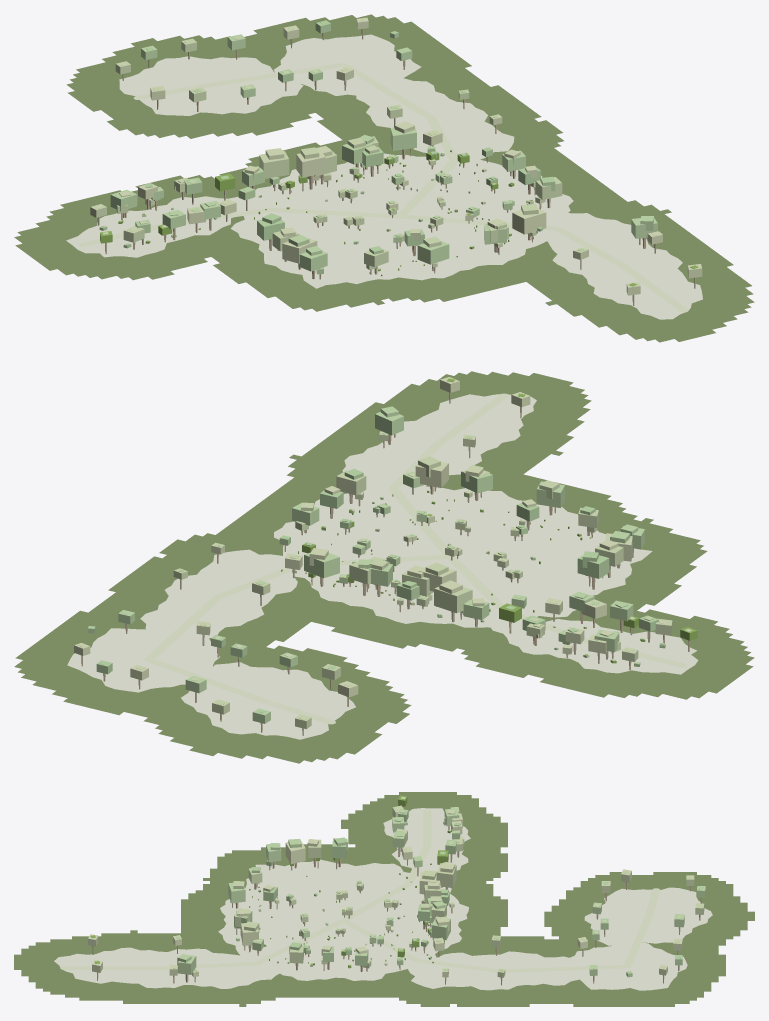
The model's file is pradera_derecha.glb.
3 views of the same model, one above another, from view 1: azimuth 30°, elevation 25°; view 2: azimuth 150°, elevation 25°; view 3: azimuth 270°, elevation 25° (orthographic). The views are drawn at different scales.
Visible parts, largest first — view 1: AutoForest_PraderaDerecha, RightMeadow, ExitDownMeadow, Hub2LeftMeadow, ExitUpMeadow, Hub2Meadow, ExitMeadow, NorthPath, SouthPath, ExitPath, right_tree_crown_22, right_tree_crown_14 (+2 smaller); view 2: AutoForest_PraderaDerecha, RightMeadow, ExitDownMeadow, Hub2LeftMeadow, ExitUpMeadow, Hub2Meadow, ExitMeadow, NorthPath, SouthPath, ExitPath, right_tree_crown_14, right_tree_crown_17; view 3: AutoForest_PraderaDerecha, RightMeadow, ExitDownMeadow, ExitUpMeadow, Hub2LeftMeadow, Hub2Meadow, ExitMeadow, NorthPath, SouthPath, ExitPath.
Boxes of the visible parts, <box> form: AutoForest_PraderaDerecha: <box>14,14,754,342</box>; RightMeadow: <box>230,152,573,288</box>; ExitDownMeadow: <box>535,213,702,319</box>; Hub2LeftMeadow: <box>119,56,303,115</box>; ExitUpMeadow: <box>348,78,514,164</box>; Hub2Meadow: <box>274,34,421,95</box>; ExitMeadow: <box>66,196,262,257</box>; NorthPath: <box>133,63,458,214</box>; SouthPath: <box>400,214,688,312</box>; ExitPath: <box>78,208,404,246</box>; right_tree_crown_22: <box>512,208,546,234</box>; right_tree_crown_14: <box>259,150,289,178</box>; AutoForest_PraderaDerecha: <box>14,371,754,763</box>; RightMeadow: <box>272,484,652,628</box>; ExitDownMeadow: <box>342,394,536,497</box>; Hub2LeftMeadow: <box>181,662,355,739</box>; ExitUpMeadow: <box>140,549,303,646</box>; Hub2Meadow: <box>67,628,219,692</box>; ExitMeadow: <box>491,619,698,674</box>; NorthPath: <box>144,554,447,724</box>; SouthPath: <box>388,393,509,555</box>; ExitPath: <box>445,555,686,667</box>; right_tree_crown_14: <box>434,586,472,613</box>; right_tree_crown_17: <box>304,552,339,578</box>; AutoForest_PraderaDerecha: <box>14,792,754,1006</box>; RightMeadow: <box>218,859,468,980</box>; ExitDownMeadow: <box>54,947,280,988</box>; ExitUpMeadow: <box>408,951,590,990</box>; Hub2LeftMeadow: <box>584,887,712,945</box>; Hub2Meadow: <box>567,942,687,990</box>; ExitMeadow: <box>383,808,470,876</box>; NorthPath: <box>341,888,659,972</box>; SouthPath: <box>60,919,343,969</box>; ExitPath: <box>340,810,431,921</box>.
Size of what is drawn, in the model's own units: 140 by 9.74 by 204.
